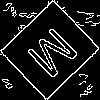M: (25, 25, 87, 88)
